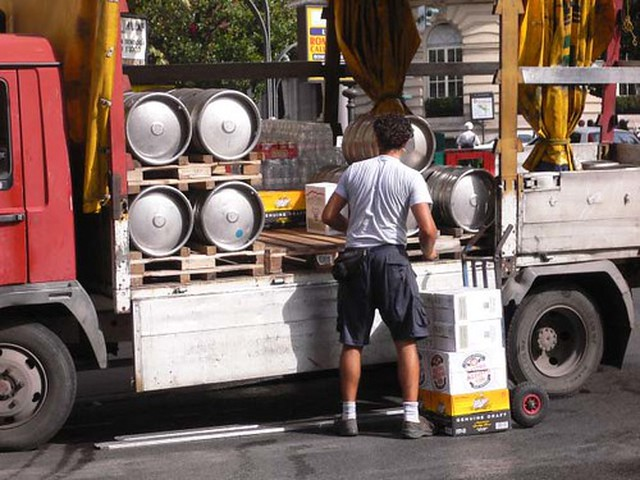Person: (313, 109, 444, 437)
